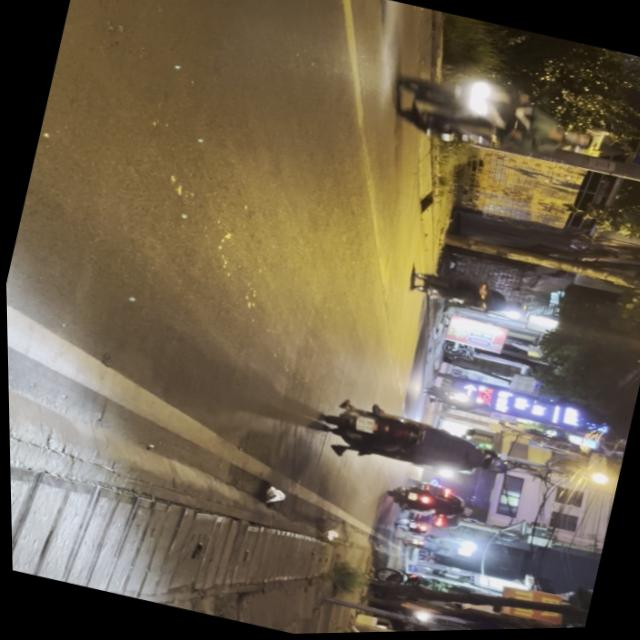helmet: (556, 126, 601, 157), (478, 452, 509, 476)
licenseplate: (382, 57, 610, 181), (308, 388, 518, 496)
nohelmet: (351, 416, 374, 435)
